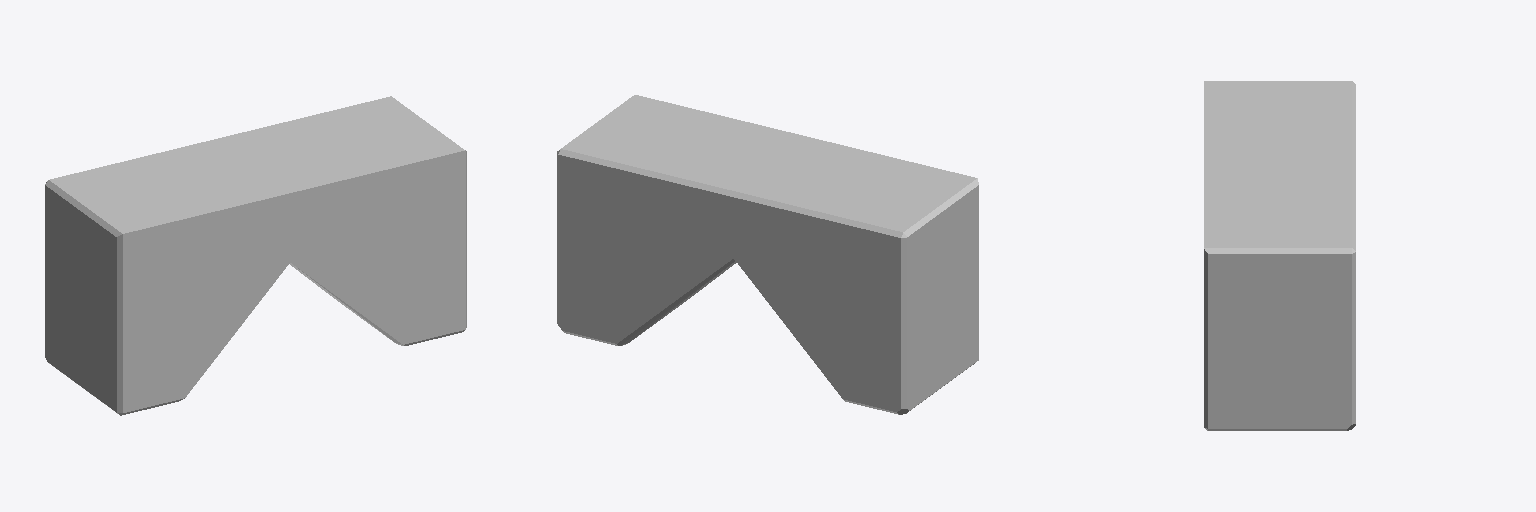
The model's file is Bridge.obj.
The picture shows the model from 3 angles: view 1: azimuth 30°, elevation 25°; view 2: azimuth 150°, elevation 25°; view 3: azimuth 270°, elevation 25°; orthographic projection.
Visible parts, largest first — view 1: convex_0, convex_1; view 2: convex_0, convex_1; view 3: convex_1, convex_0.
Part boxes in pixels (left/top/right/bottom): convex_0: left=45, top=139, right=289, bottom=415; convex_1: left=217, top=96, right=466, bottom=345; convex_0: left=734, top=137, right=978, bottom=414; convex_1: left=557, top=95, right=809, bottom=345; convex_1: left=1204, top=162, right=1355, bottom=430; convex_0: left=1204, top=81, right=1355, bottom=165.
Size of the model in its own units: 51.37 by 25.69 by 19.41.